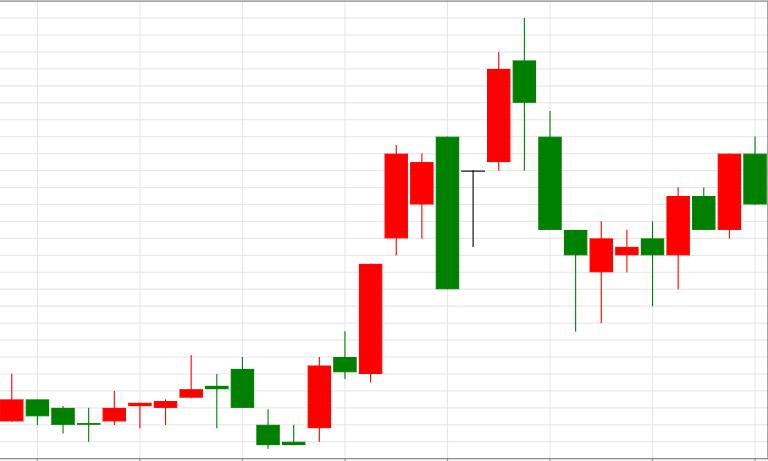bearish_engulfing_fall: (308, 137, 459, 441)
